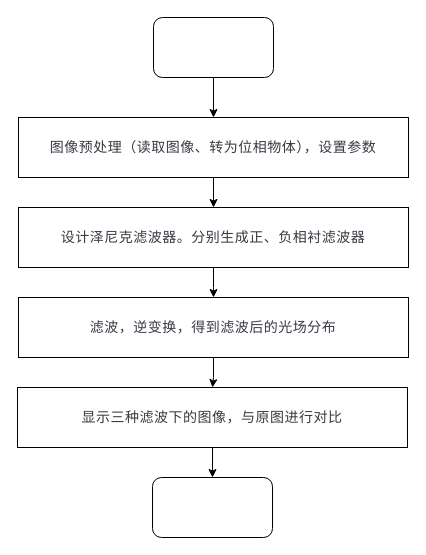
The diagram is 426 pixels wide and 555 high, and some of its shapes have lost their labels. Here are the shapes that lost their labels. From the top down, the box of each, then its label:
(152, 16, 274, 78): 仿真开始
(152, 476, 272, 538): 结束仿真
